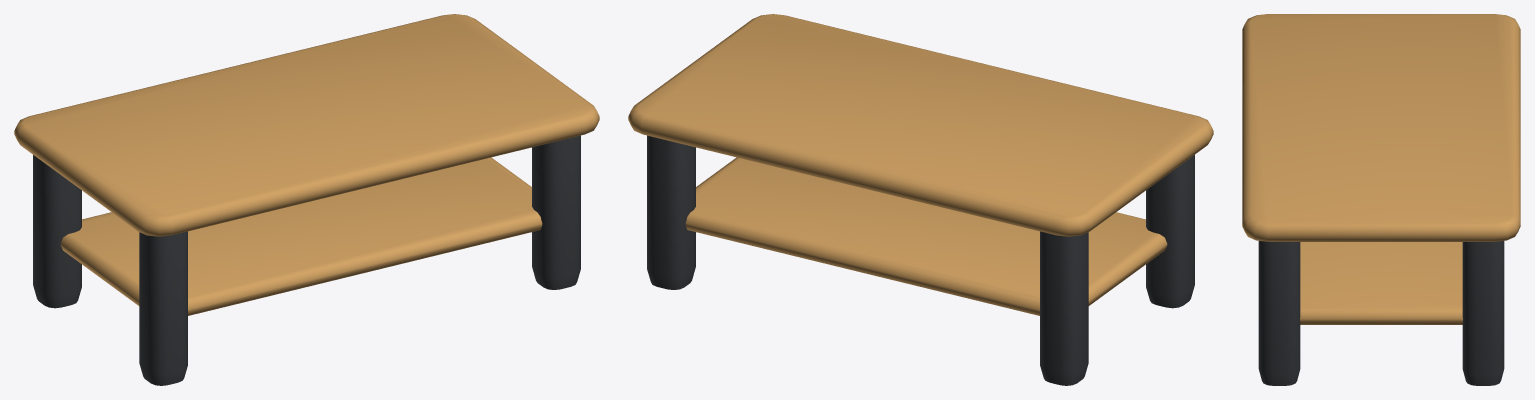
File: table_basse_grande.glb
3 renders of one model, left to right at view 1: azimuth 30°, elevation 25°; view 2: azimuth 150°, elevation 25°; view 3: azimuth 270°, elevation 25°, orthographic. The views are drawn at different scales.
Visible parts, largest first — view 1: TBG_Bois, TBG_Anthracite; view 2: TBG_Bois, TBG_Anthracite; view 3: TBG_Bois, TBG_Anthracite.
Boxes of the visible parts, <box> form: TBG_Bois: <box>14,14,599,315</box>; TBG_Anthracite: <box>33,135,580,385</box>; TBG_Bois: <box>628,14,1213,315</box>; TBG_Anthracite: <box>647,135,1194,385</box>; TBG_Bois: <box>1242,14,1520,324</box>; TBG_Anthracite: <box>1258,241,1504,385</box>.
Size of the model in its own units: 1.1 by 0.4 by 0.6.
